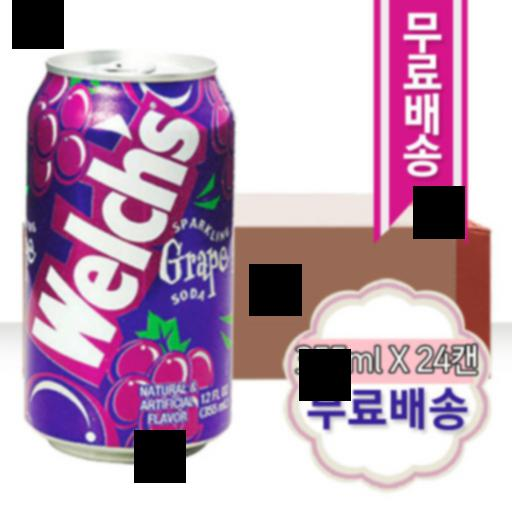welchs_grape: (21, 50, 237, 465)
